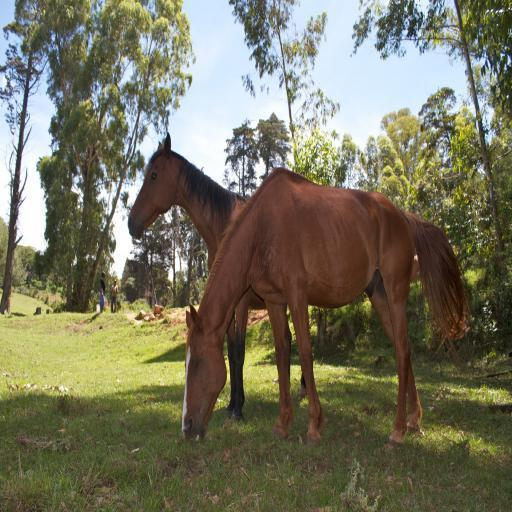horse: (180, 166, 473, 449), (128, 132, 286, 424)
